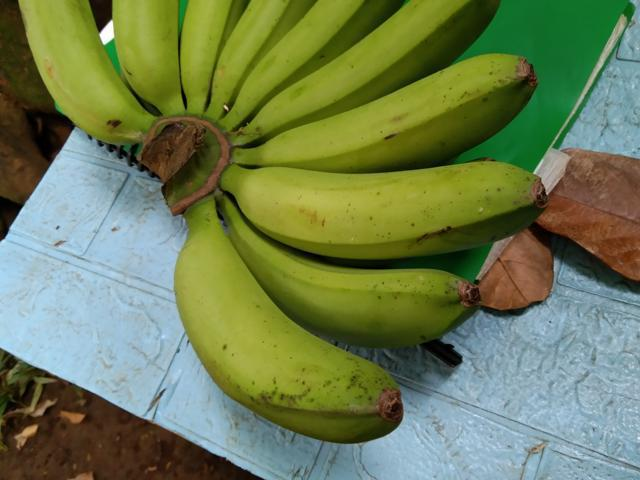freshunripe: (165, 215, 403, 440), (230, 156, 557, 268), (280, 44, 542, 169), (252, 0, 481, 139), (307, 239, 483, 357), (100, 0, 186, 108)
unripe: (10, 0, 140, 141)
